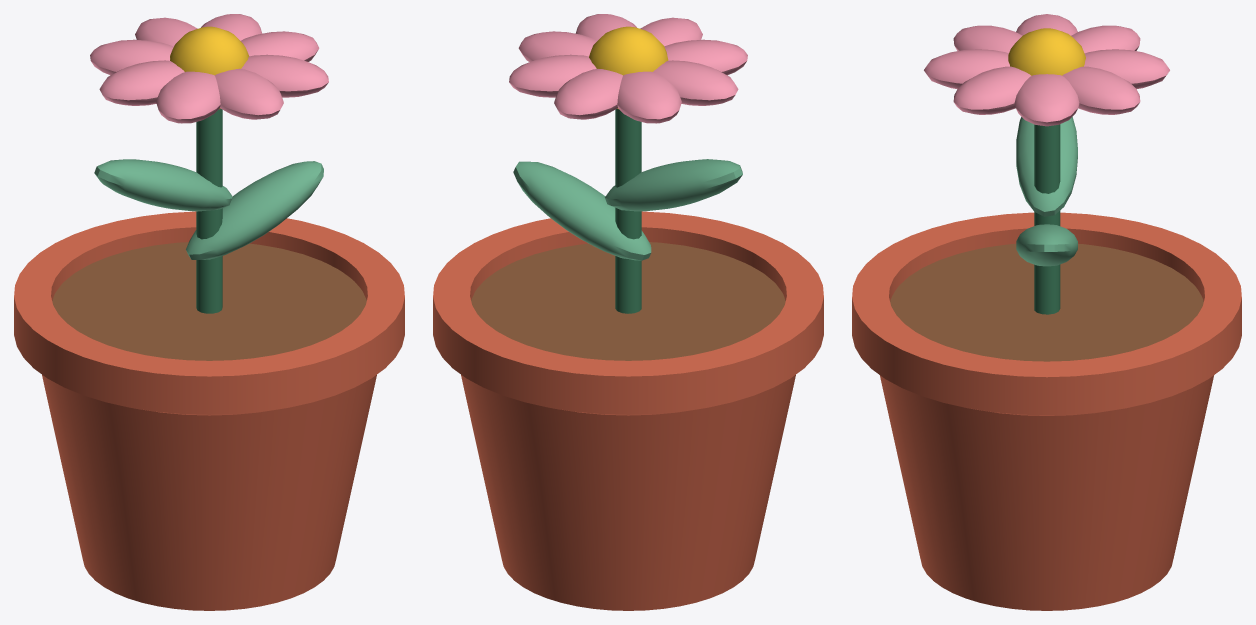
The model's file is flower_pot.glb.
The picture shows the model from 3 angles, left to right: view 1: azimuth 30°, elevation 25°; view 2: azimuth 150°, elevation 25°; view 3: azimuth 270°, elevation 25°; orthographic projection.
Parts seen in each view (by area): view 1: flower_pot; view 2: flower_pot; view 3: flower_pot.
Boxes of the visible parts, bbox=[...] form: flower_pot: bbox=[14, 14, 404, 610]; flower_pot: bbox=[433, 14, 823, 610]; flower_pot: bbox=[852, 14, 1241, 610].
Bounding box in the file's own units: 0.7391 × 1.1 × 0.7395.
Materials: 1 (1 with a texture image).
